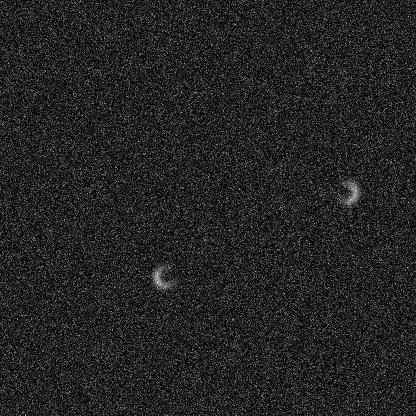Janus: (331, 177, 361, 207), (150, 261, 180, 291)
